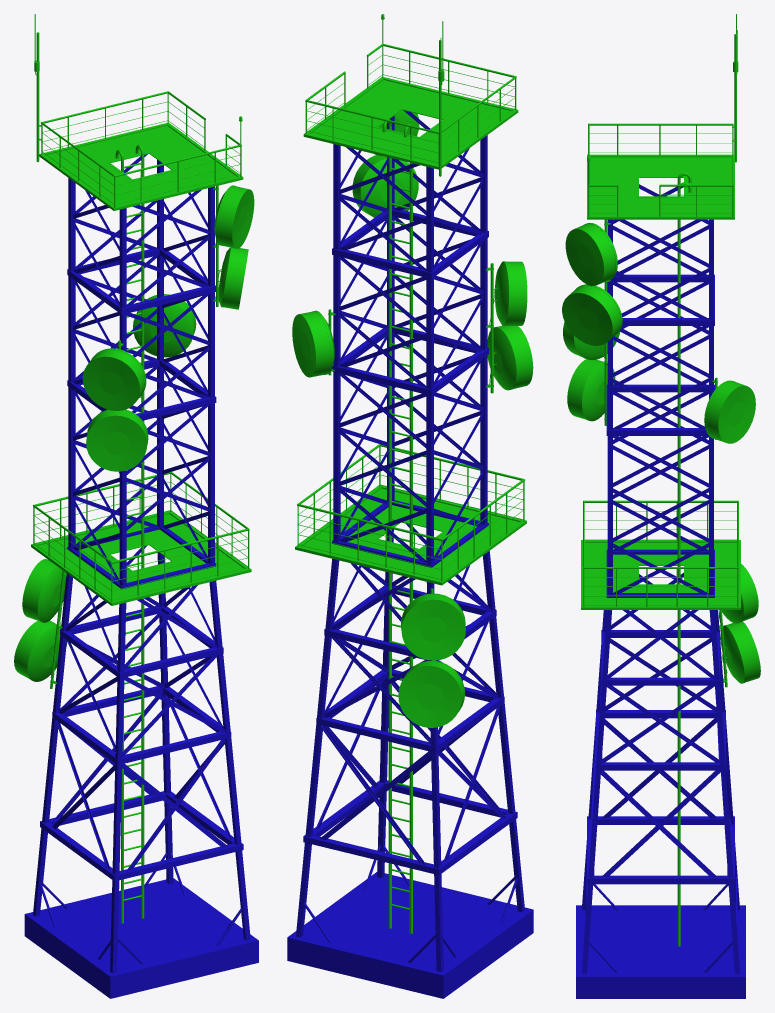
The model's file is Tower.obj.
3 renders of one model, left to right at view 1: azimuth 30°, elevation 25°; view 2: azimuth 150°, elevation 25°; view 3: azimuth 270°, elevation 25°, orthographic. The views are drawn at different scales.
Visible parts, largest first — view 1: Tower_meshId0_name, Tower.001_meshId1_name; view 2: Tower_meshId0_name, Tower.001_meshId1_name; view 3: Tower_meshId0_name, Tower.001_meshId1_name.
Part boxes in pixels (<box>): Tower_meshId0_name: <box>24,154,258,998</box>; Tower.001_meshId1_name: <box>14,14,254,923</box>; Tower_meshId0_name: <box>287,110,533,998</box>; Tower.001_meshId1_name: <box>292,14,533,933</box>; Tower_meshId0_name: <box>576,184,745,998</box>; Tower.001_meshId1_name: <box>562,14,760,946</box>.
Size of the model in its own units: 324 by 1665 by 328.
